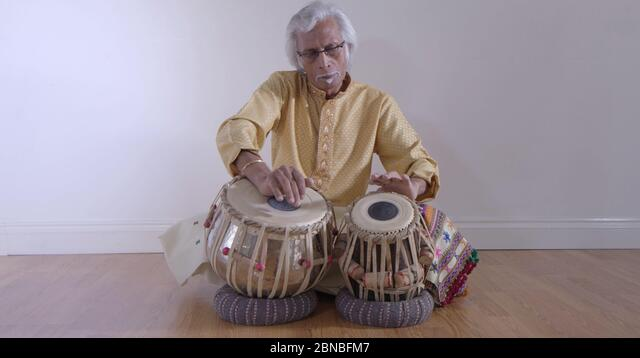tabla: (202, 174, 334, 298), (340, 191, 428, 300)
